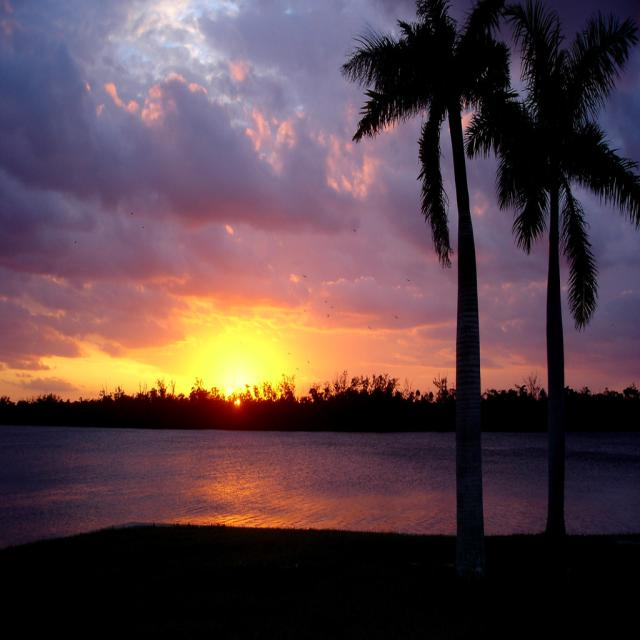no_fire: (42, 278, 384, 436)
